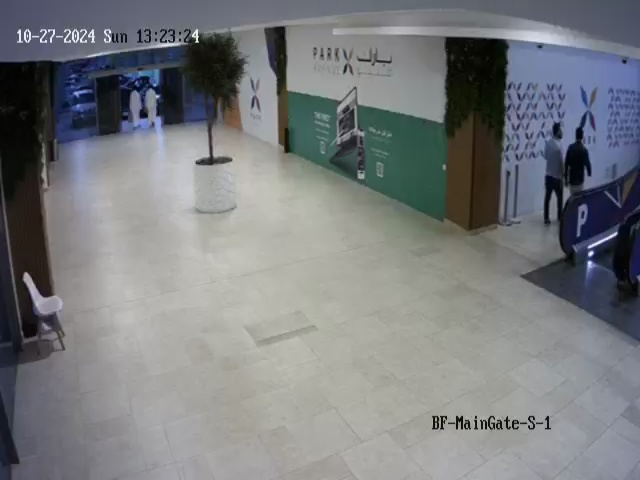male: (543, 122, 565, 226), (564, 127, 592, 196), (144, 84, 158, 129), (129, 86, 143, 130)
